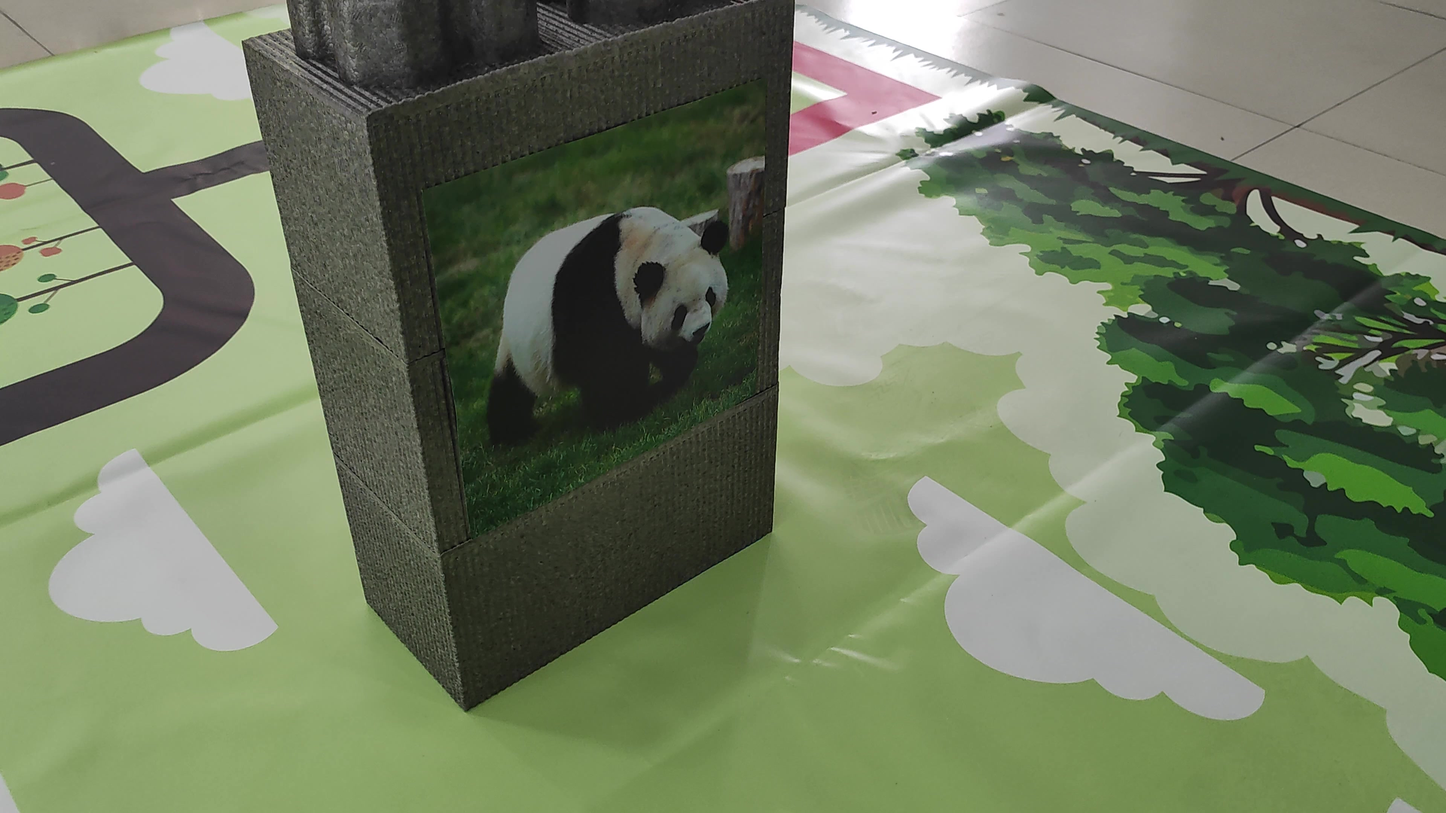panda: (422, 129, 761, 453)
